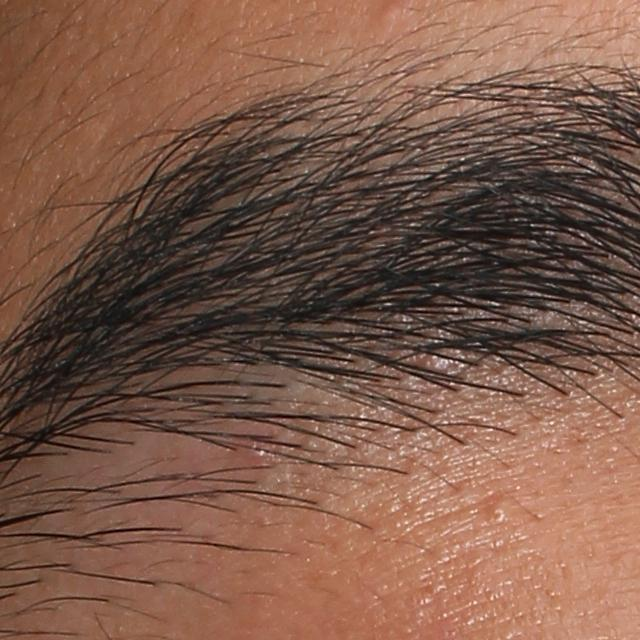comedo: (486, 503, 512, 527)
